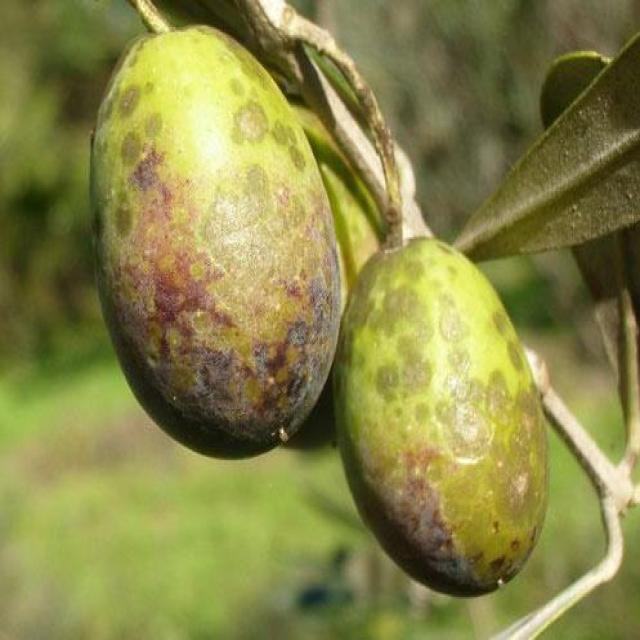Anthracnose: (90, 27, 341, 455), (346, 237, 548, 592)
